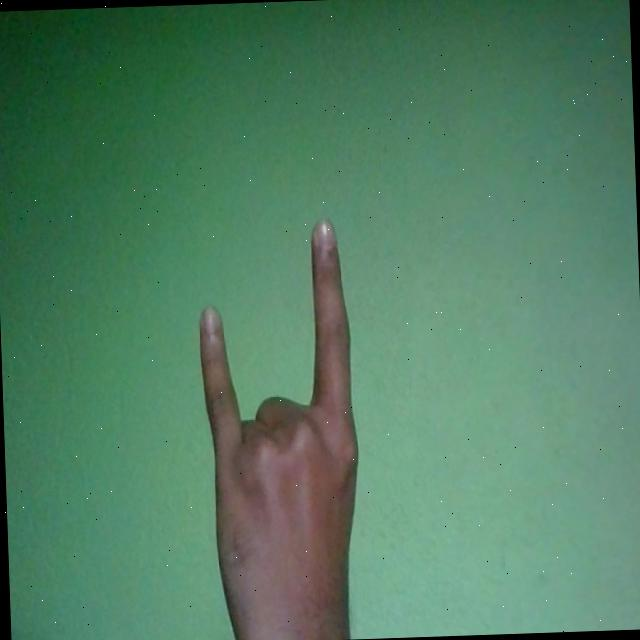open Plam: (193, 216, 366, 640)
